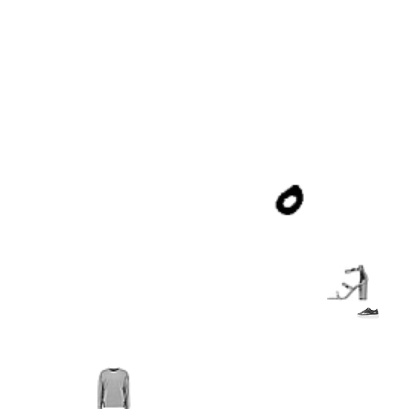0: (269, 179, 311, 221)
Pullover: (93, 367, 135, 409)
Sandal: (327, 262, 369, 304)
Sneaker: (357, 302, 379, 324)
